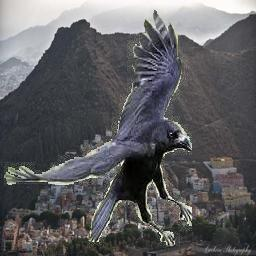Crow: (4, 10, 192, 247)
